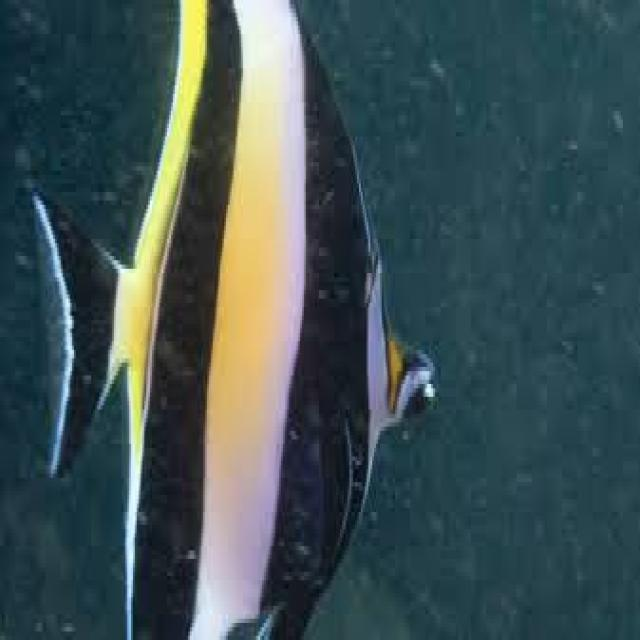MorishIdol: (26, 0, 438, 640)
